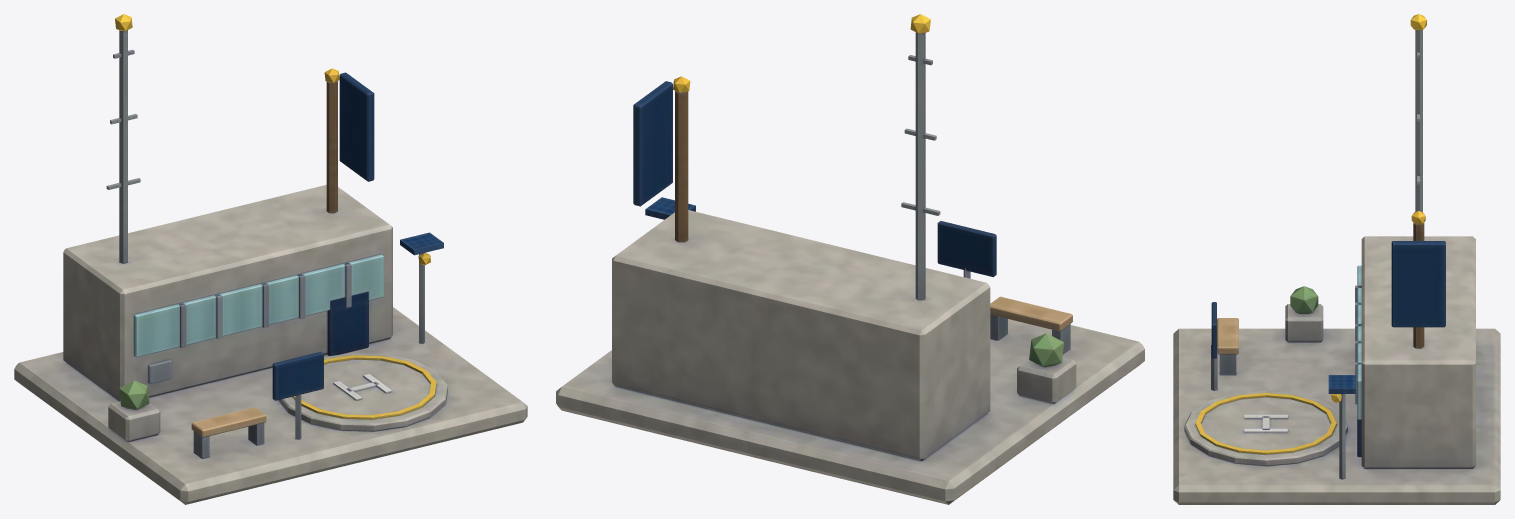
File: barracks-30.glb
3 views of the same model, side by side, from view 1: azimuth 30°, elevation 25°; view 2: azimuth 150°, elevation 25°; view 3: azimuth 270°, elevation 25° (orthographic). The views are drawn at different scales.
Parts seen in each view (by area): view 1: barracks-30; view 2: barracks-30; view 3: barracks-30.
Part boxes in pixels (left/top/right/bottom): barracks-30: left=14, top=14, right=527, bottom=504; barracks-30: left=556, top=14, right=1144, bottom=504; barracks-30: left=1173, top=14, right=1500, bottom=504.
Bounding box in the file's own units: 1.4 × 1.48 × 1.2.
Materials: 1 (1 with a texture image).
